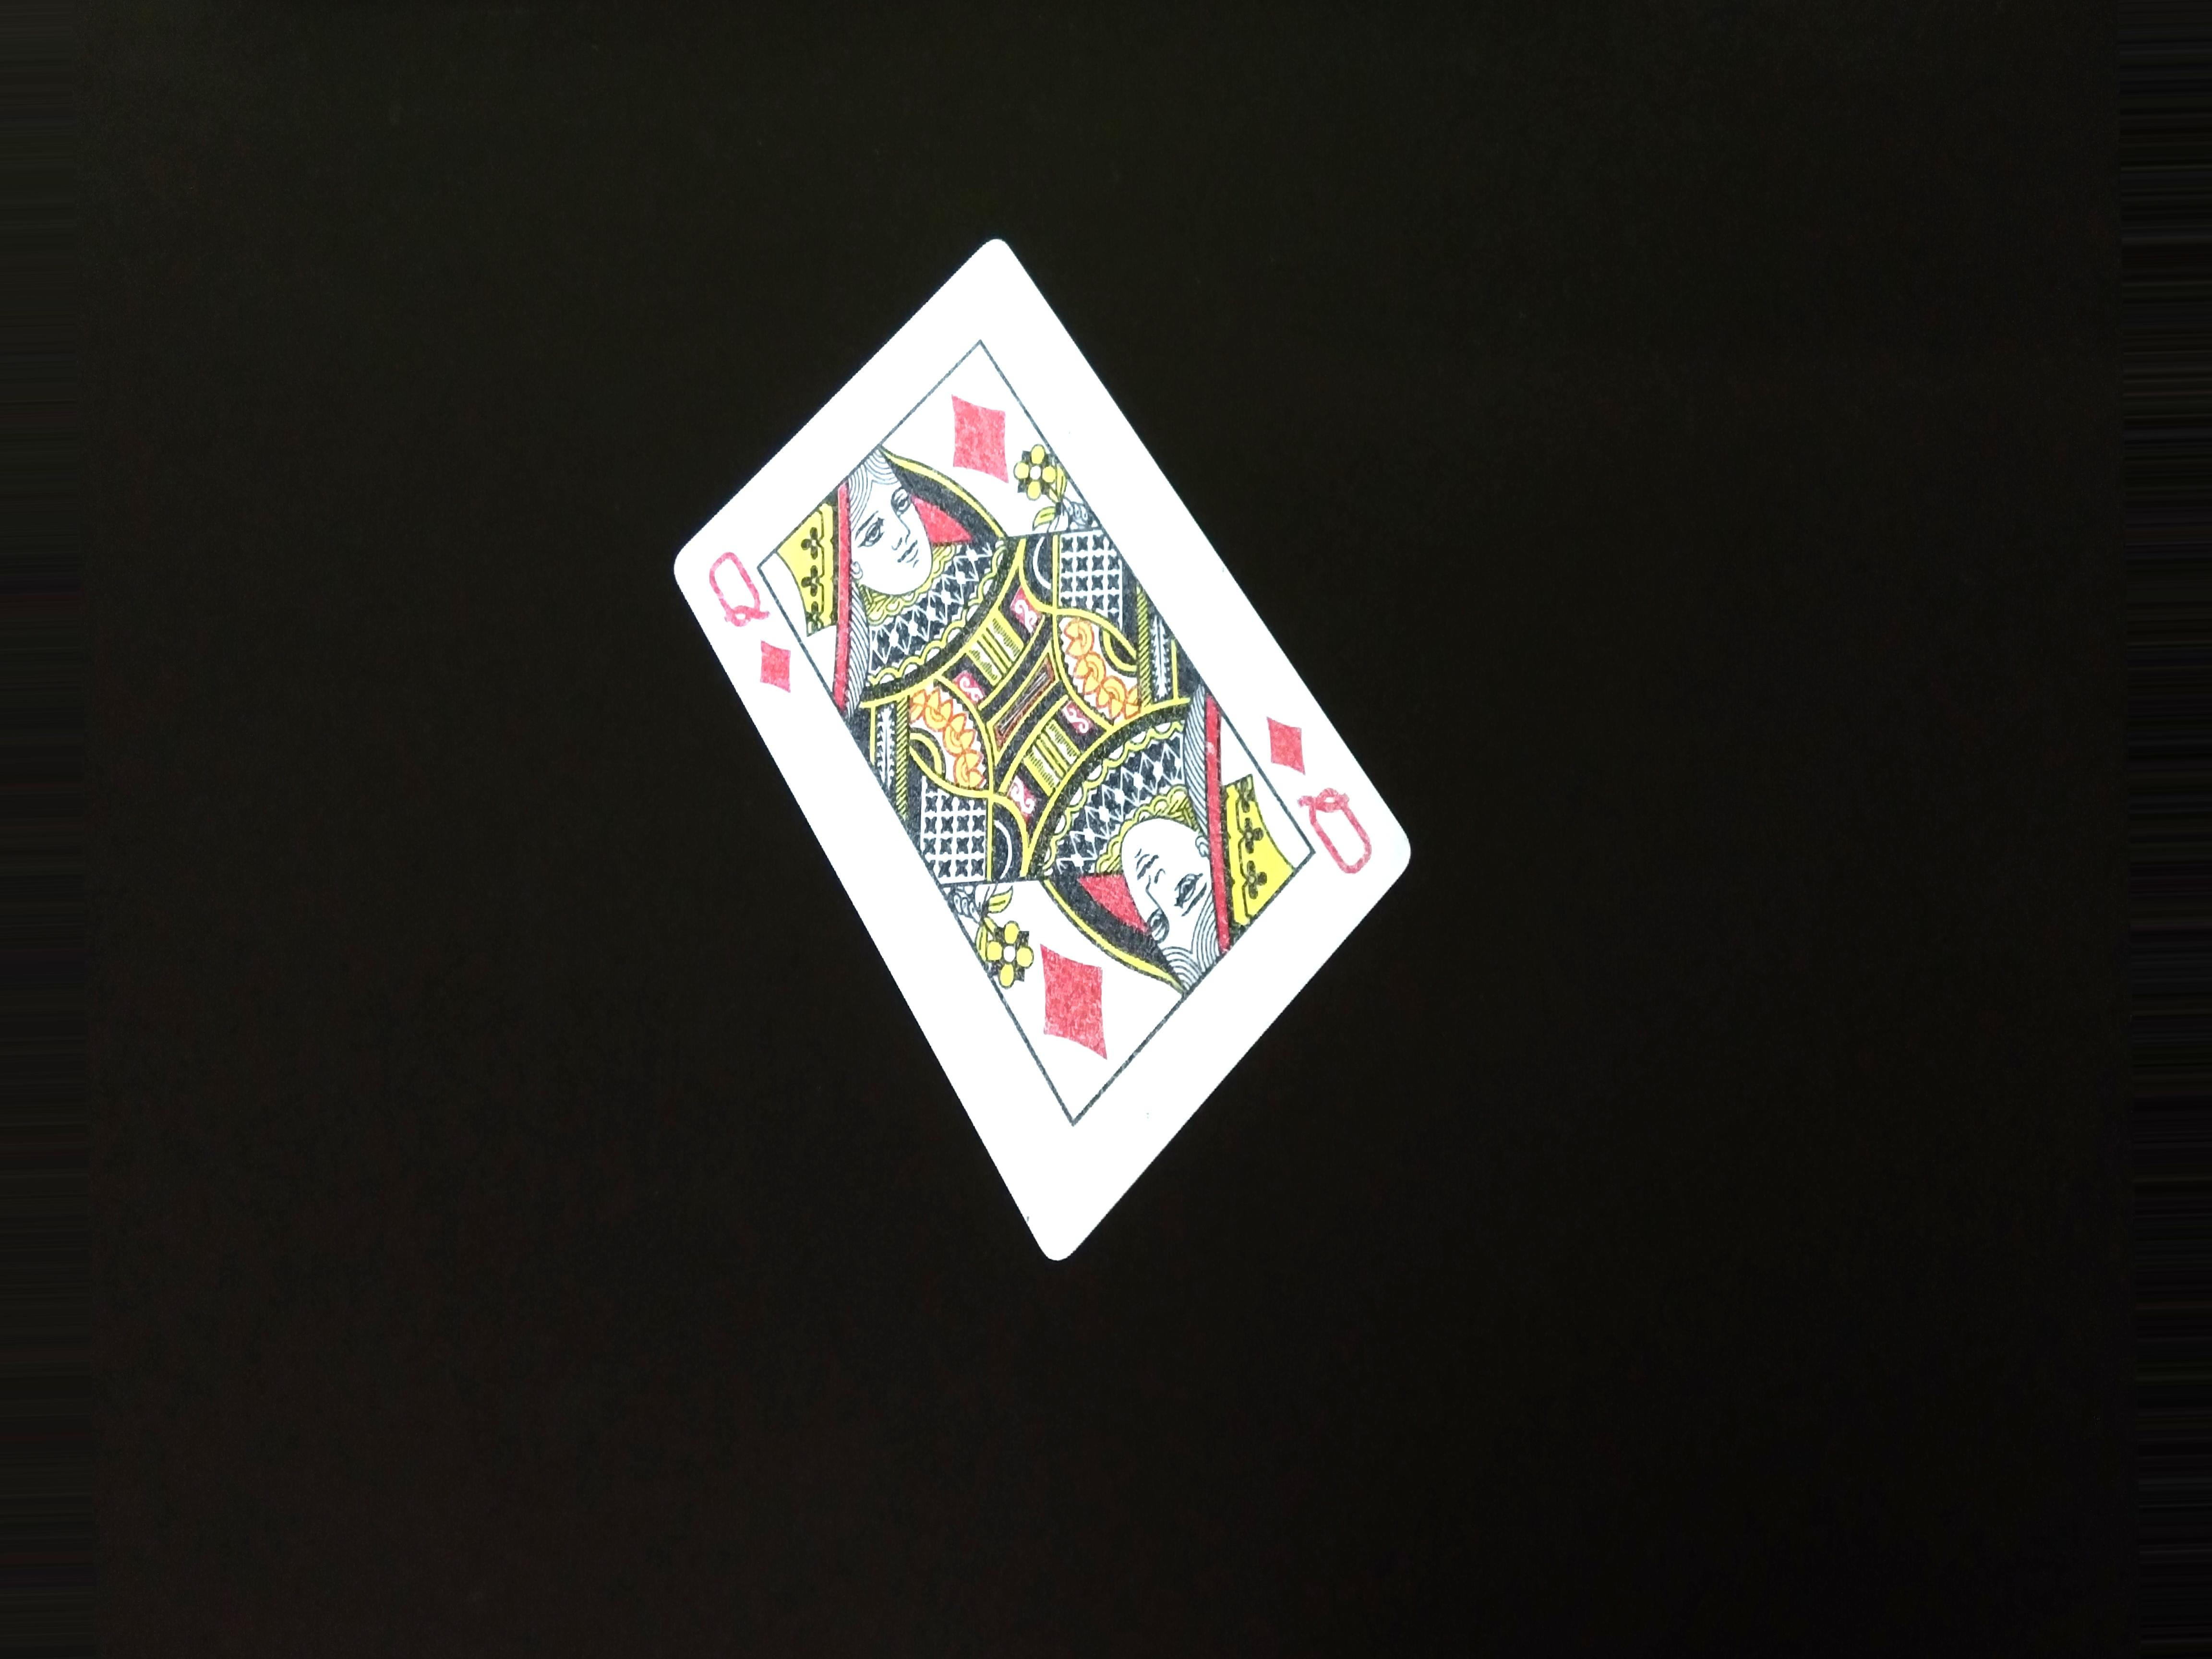QD: (1266, 701, 1374, 878)
